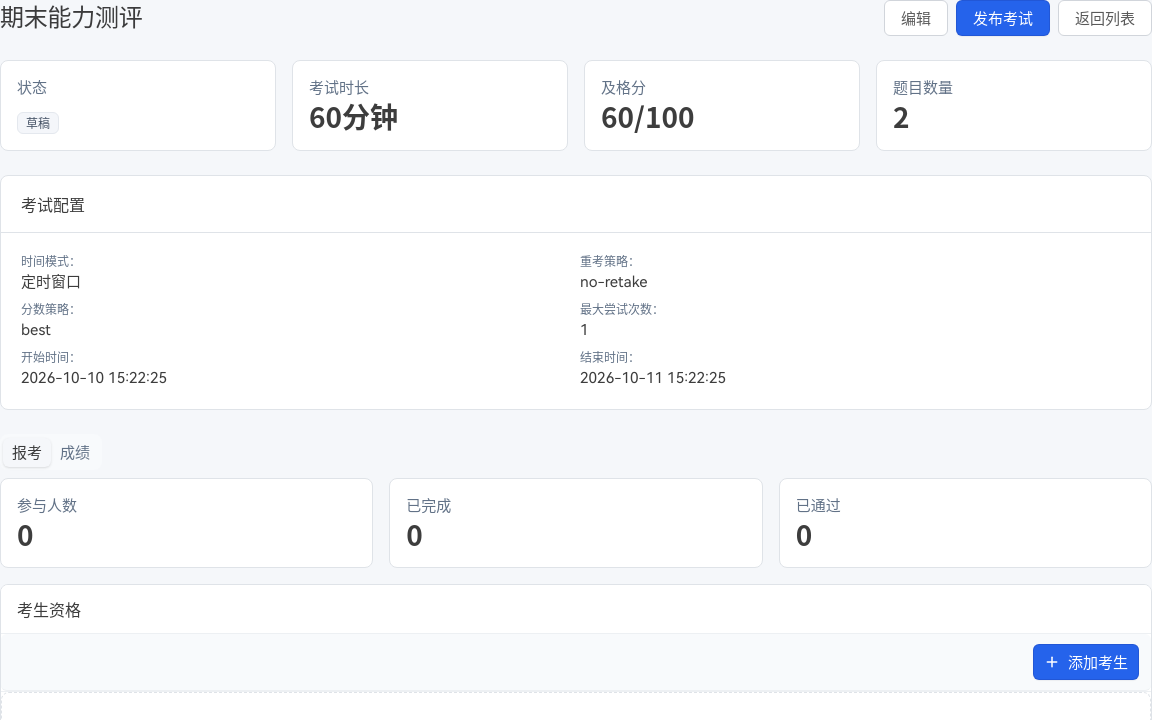
ExamDetailPage › enrollment management › opens add enrollment dialog
The width and height of the screenshot is (1152, 720).
Click the button "添加考生".
click(1086, 662)  # box [1033,644,1139,680]
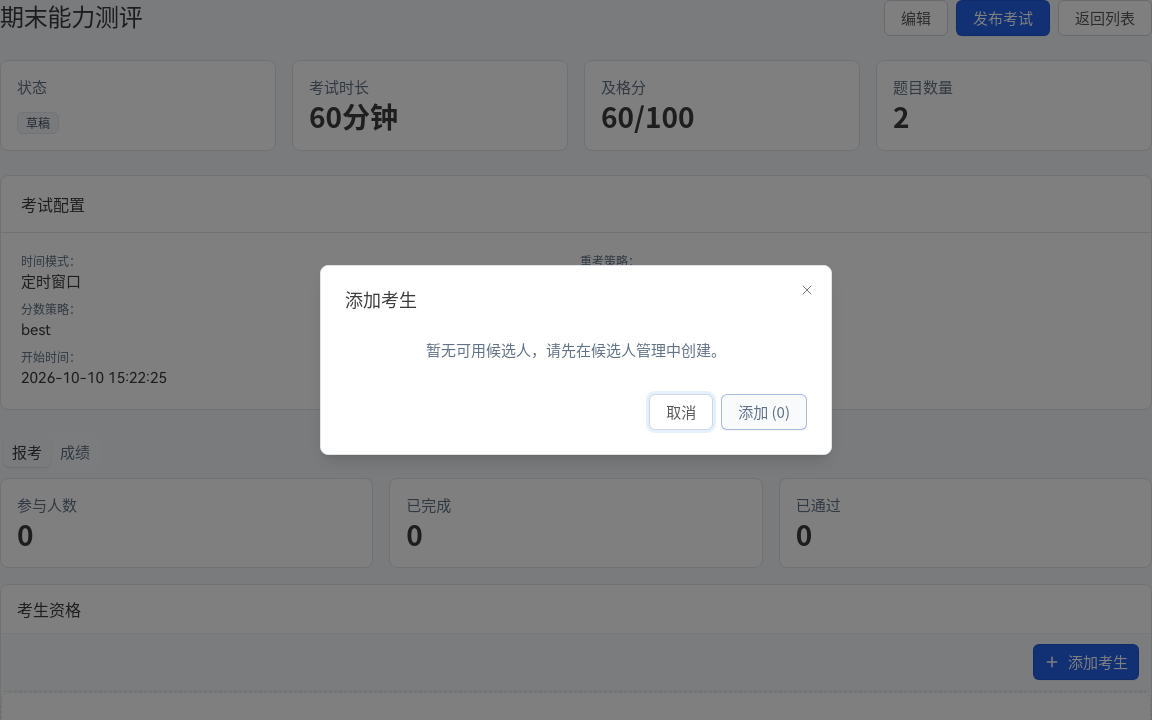
Expected: the dialog is shown, [320,265,832,455]
